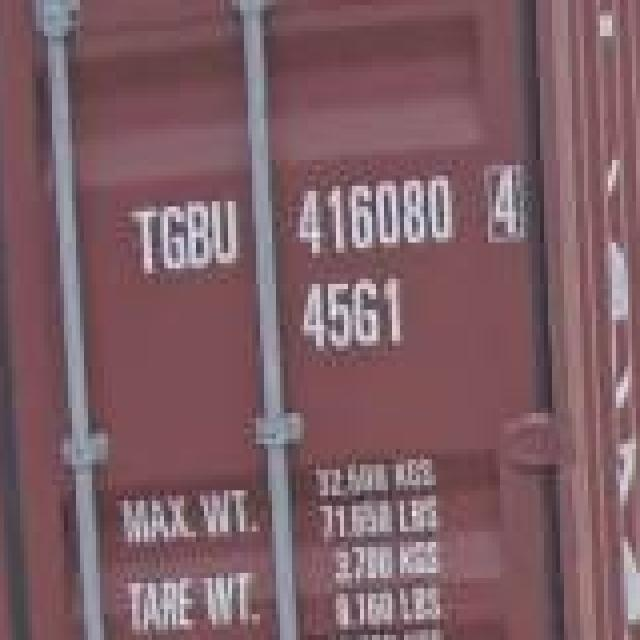dv: (476, 153, 536, 248)
owner: (126, 176, 243, 285)
serial: (282, 158, 461, 258)
size: (286, 268, 415, 362)
